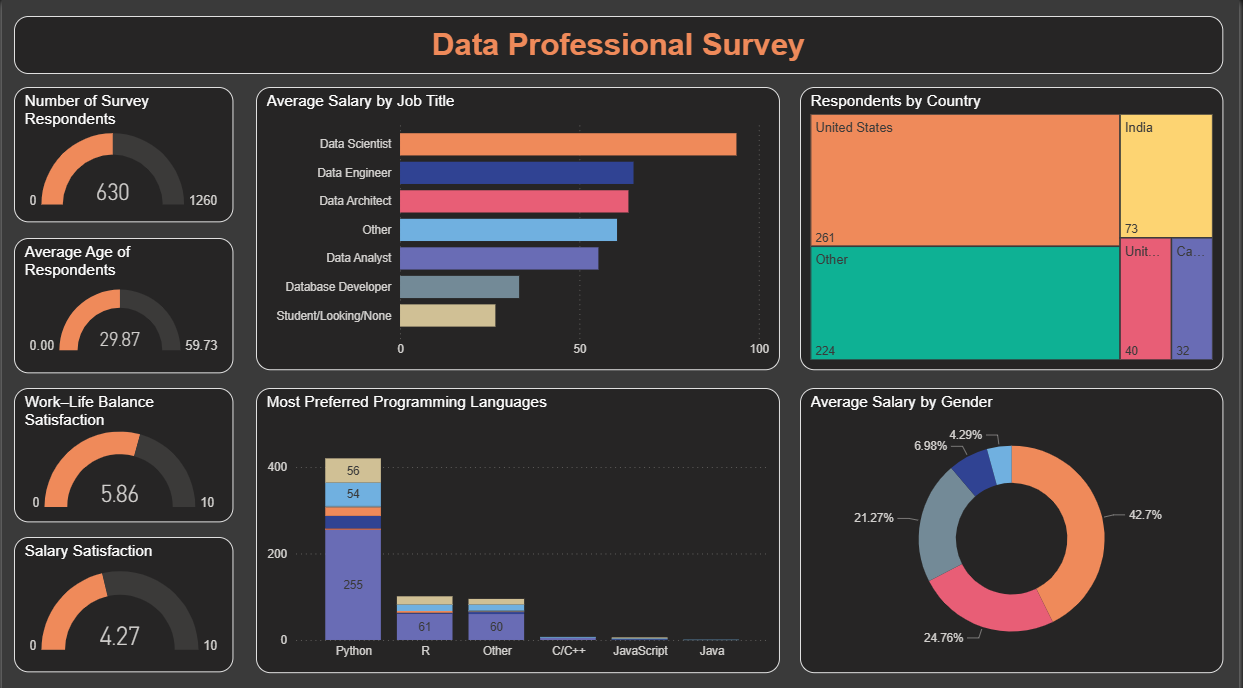

The dashboard page shown, as its layout file describes it:
{"tool":"powerbi","page":{"name":"Data Professional Survey","canvas":[1280,720],"ordinal":0},"visuals":[{"type":"gauge","fields":{"Y":["CountNonNull(Data Professional Survey.Unique ID)"]},"box":[12.5,90.3,226.6,140.4],"z":0},{"type":"gauge","fields":{"Y":["Avg(Data Professional Survey.Q10 - Current Age)"]},"box":[12.5,246,226.6,140.4],"z":1000},{"type":"gauge","title":"Work–Life Balance Satisfaction","fields":{"Y":["Avg(Data Professional Survey.Q6 - How Happy are you in your Current Position with the following? (Coworkers))"],"MinValue":["Min(Data Professional Survey.Q6 - How Happy are you in your Current Position with the following? (Coworkers))"],"MaxValue":["Max(Data Professional Survey.Q6 - How Happy are you in your Current Position with the following? (Coworkers))1"]},"box":[12.5,401.7,226.6,139],"z":2000},{"type":"gauge","title":"Salary Satisfaction","fields":{"Y":["Avg(Data Professional Survey.Q6 - How Happy are you in your Current Position with the following? (Salary))"],"MaxValue":["Max(Data Professional Survey.Q6 - How Happy are you in your Current Position with the following? (Salary))"],"MinValue":["Min(Data Professional Survey.Q6 - How Happy are you in your Current Position with the following? (Salary))"]},"box":[12.5,556,226.6,140],"z":3000},{"type":"barChart","title":"Average Salary by Job Title","fields":{"Category":["Data Professional Survey.Q1 - Which Title Best Fits your Current Role?.1"],"Y":["Avg(Data Professional Survey.Average Salary)"],"Series":["Data Professional Survey.Q1 - Which Title Best Fits your Current Role?.1"]},"box":[262.7,90.3,542.1,293.3],"z":4000},{"type":"treemap","title":"Respondents by Country","fields":{"Group":["Data Professional Survey.Q11 - Which Country do you live in?.1"],"Values":["CountNonNull(Data Professional Survey.Q11 - Which Country do you live in?.1)"]},"box":[825.6,90.3,437.8,293.3],"z":5000},{"type":"columnChart","title":"Most Preferred Programming Languages","fields":{"Category":["Data Professional Survey.Q5 - Favorite Programming Language.1"],"Y":["CountNonNull(Data Professional Survey.Unique ID)"],"Series":["Data Professional Survey.Q1 - Which Title Best Fits your Current Role?.1"]},"box":[262.7,401.7,542.1,294.7],"z":6000},{"type":"donutChart","title":"Average Salary by Gender","fields":{"Category":["Data Professional Survey.Q7 - How difficult was it for you to break into Data?"],"Y":["CountNonNull(Data Professional Survey.Q7 - How difficult was it for you to break into Data?)"]},"box":[825.6,401.7,437.8,294.7],"z":7000},{"type":"textbox","box":[12.5,16.7,1251,59.8],"z":8000}]}

Visuals, with their boxes in screenshot pixels (x1, y1, x2, y2), scaled from the page's 1280x720 canvas onto the 1243x688 screenshot:
gauge - CountNonNull(Data Professional Survey.Unique ID): crop(12, 86, 232, 220)
gauge - Avg(Data Professional Survey.Q10 - Current Age): crop(12, 235, 232, 369)
"Work–Life Balance Satisfaction" gauge: crop(12, 384, 232, 517)
"Salary Satisfaction" gauge: crop(12, 531, 232, 665)
"Average Salary by Job Title" barChart: crop(255, 86, 782, 367)
"Respondents by Country" treemap: crop(802, 86, 1227, 367)
"Most Preferred Programming Languages" columnChart: crop(255, 384, 782, 665)
"Average Salary by Gender" donutChart: crop(802, 384, 1227, 665)
textbox: crop(12, 16, 1227, 73)
